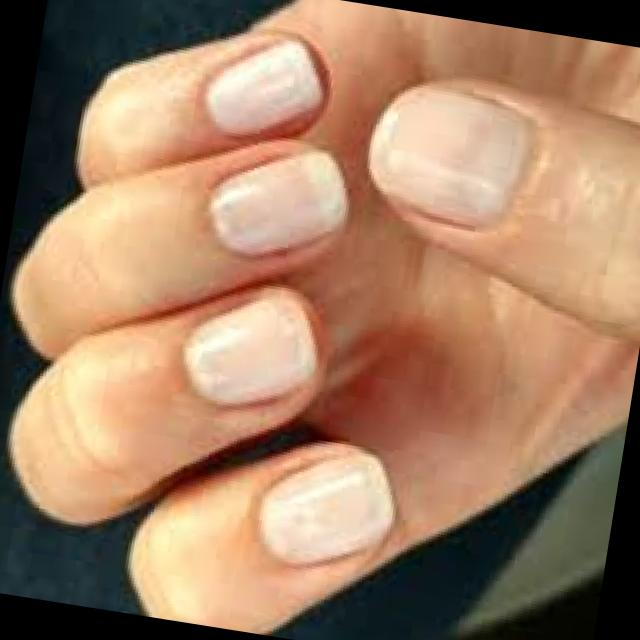Nail: (367, 85, 532, 229), (208, 149, 347, 254), (183, 295, 318, 403), (261, 457, 389, 561), (204, 39, 323, 135)
